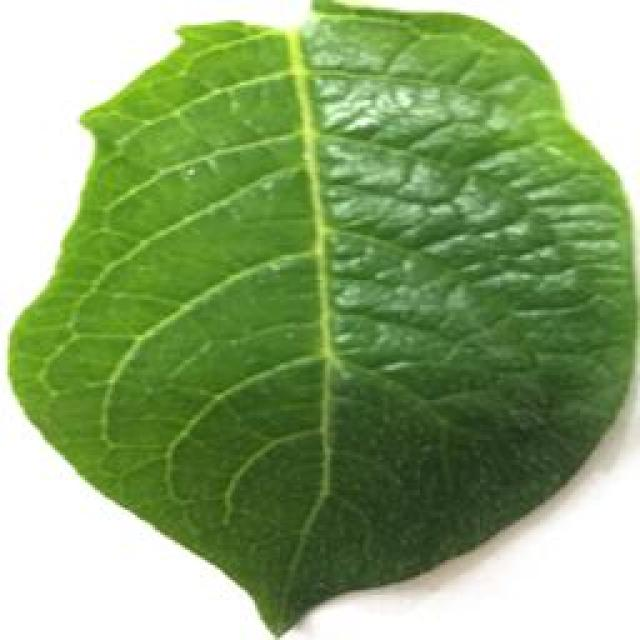Potato_Healthy: (4, 10, 626, 631)
